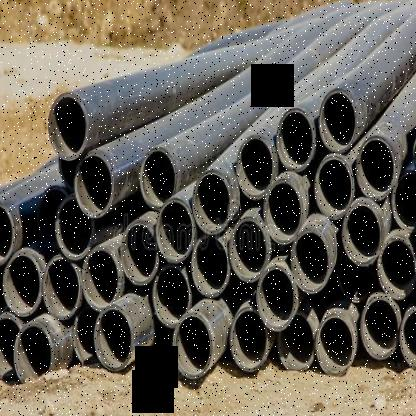pipe: (257, 263, 298, 332), (48, 92, 89, 160), (172, 311, 213, 379), (229, 216, 271, 282), (342, 200, 384, 265), (74, 152, 115, 218), (314, 154, 355, 220), (263, 178, 304, 244), (81, 246, 122, 312), (318, 89, 359, 154), (94, 304, 133, 372), (276, 106, 316, 172), (236, 134, 276, 200), (356, 134, 396, 200), (291, 228, 331, 294), (152, 264, 193, 328), (360, 296, 401, 360), (315, 313, 356, 377), (230, 306, 269, 372), (193, 169, 232, 234), (156, 198, 195, 263), (56, 194, 94, 260), (120, 220, 158, 286), (139, 146, 178, 210), (3, 253, 42, 317), (42, 257, 81, 321), (191, 235, 230, 298), (377, 235, 416, 298), (13, 322, 53, 382), (278, 313, 315, 371), (391, 172, 416, 232), (73, 308, 99, 364), (0, 312, 22, 378), (0, 198, 15, 267), (400, 306, 416, 369)
